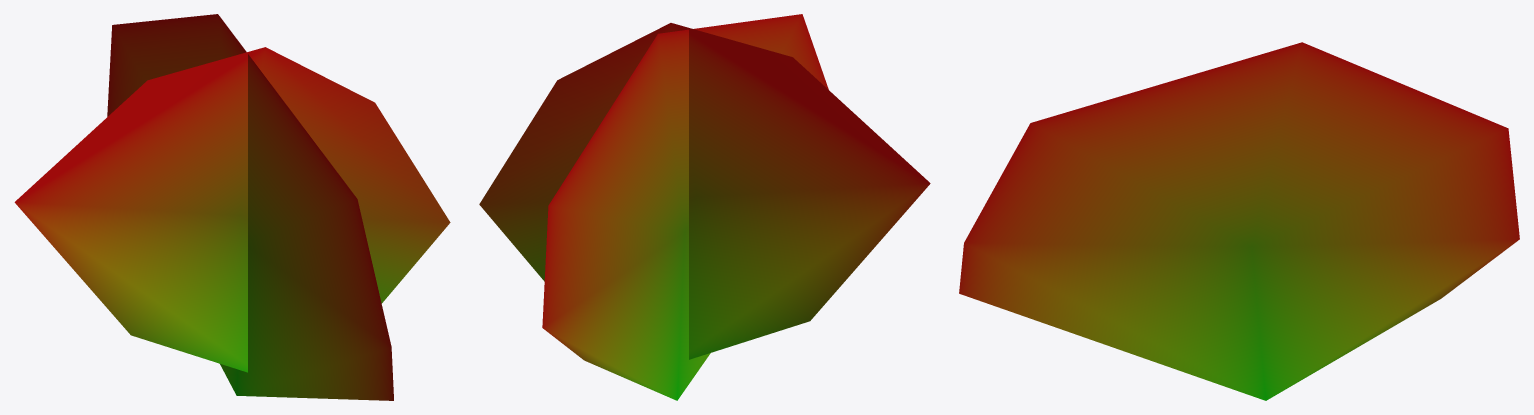
Rendered from Downy Willow_LOD6_Var15_wknlfiuqx.fbx.
3 views of the same model, side by side, from view 1: azimuth 30°, elevation 25°; view 2: azimuth 150°, elevation 25°; view 3: azimuth 270°, elevation 25° (orthographic). The views are drawn at different scales.
Parts seen in each view (by area): view 1: _3vlm_Var15_LOD6; view 2: _3vlm_Var15_LOD6; view 3: _3vlm_Var15_LOD6.
Boxes of the visible parts, x1=… form: _3vlm_Var15_LOD6: x1=14, y1=14, x2=450, y2=400; _3vlm_Var15_LOD6: x1=479, y1=14, x2=930, y2=400; _3vlm_Var15_LOD6: x1=959, y1=42, x2=1519, y2=400.
Size of the model in its own units: 159 by 128 by 182.
